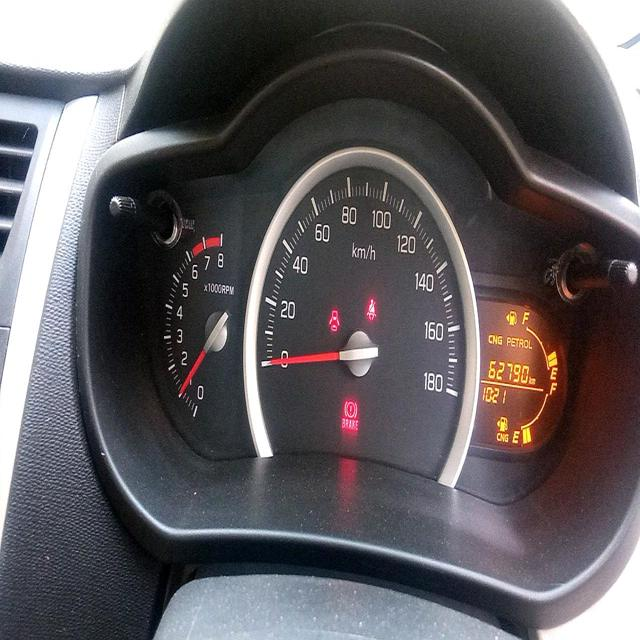odometer: (487, 352, 537, 386)
